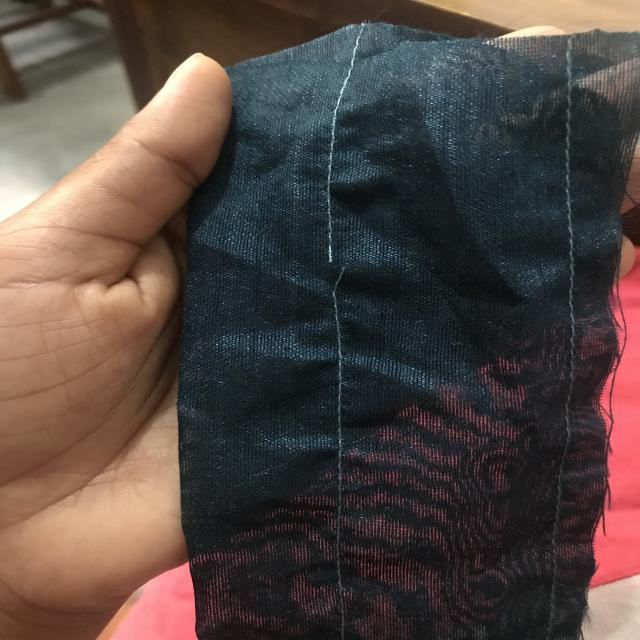broken: (292, 241, 363, 301)
